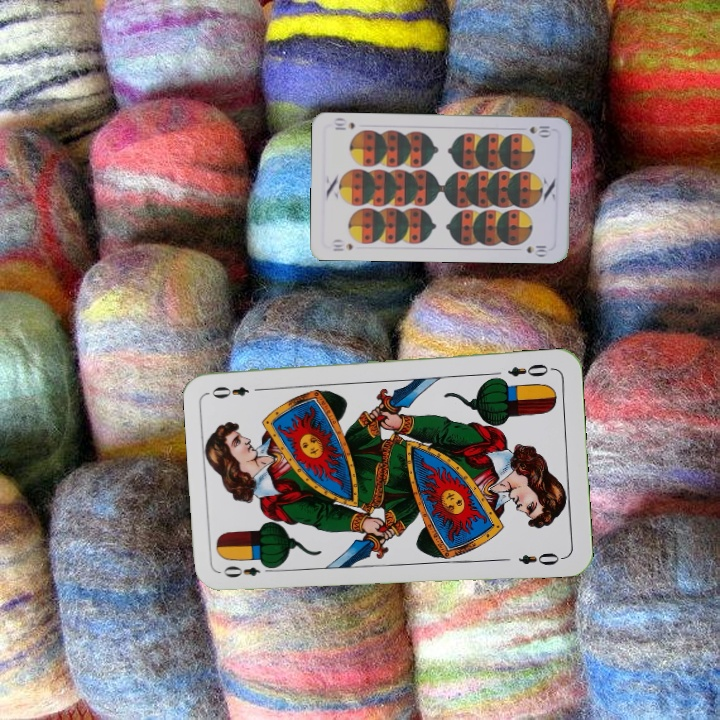EO: (219, 559, 277, 581), (504, 359, 551, 380)
S10: (526, 122, 553, 138), (329, 240, 355, 254)
